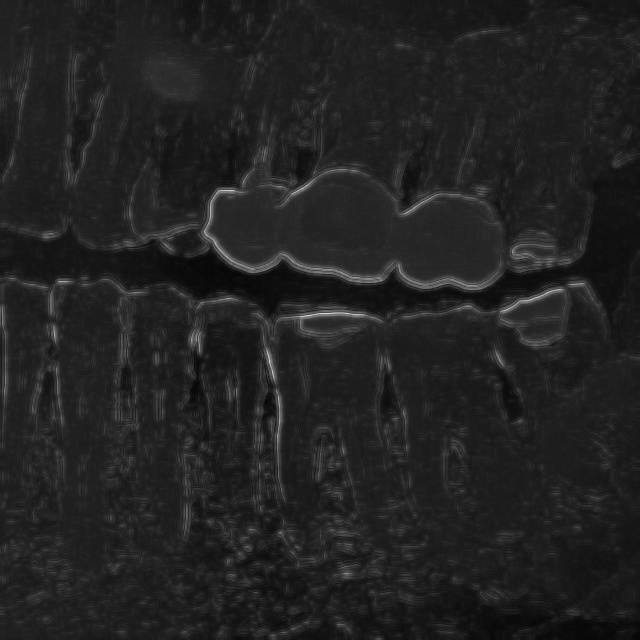Class 1- complete endodontic treatment: (207, 30, 311, 285)
Class 2- incomplete endodontic treatment: (395, 70, 531, 302)
cavity: (247, 307, 408, 578), (482, 271, 636, 532), (278, 63, 418, 288)
